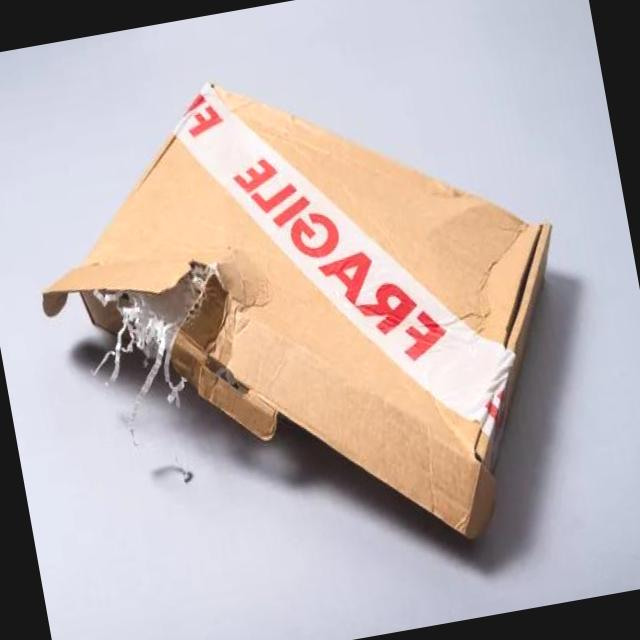Garbage: (4, 22, 605, 615)
